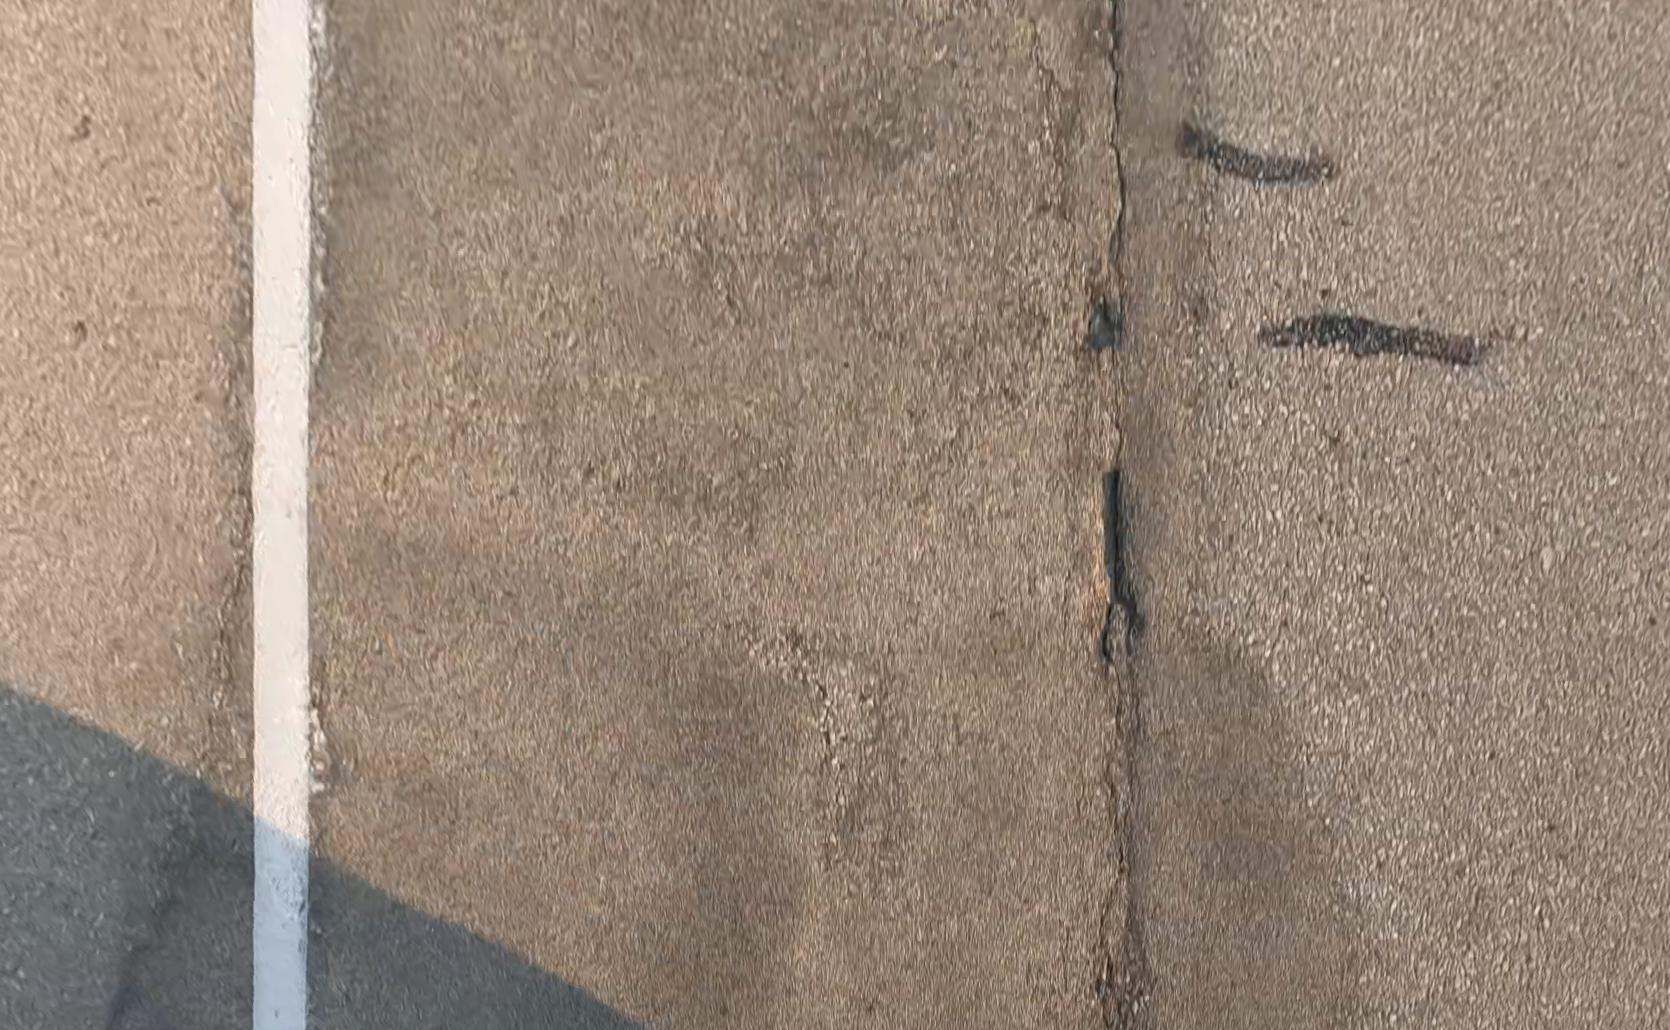pothole_patch_poor: (92, 5, 1363, 1030)
